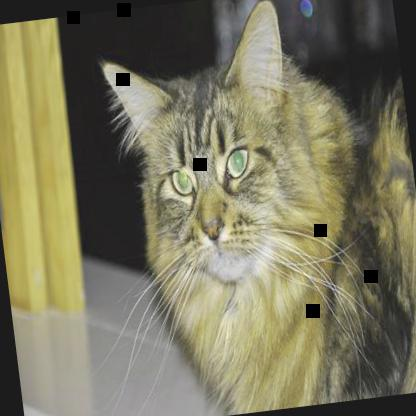cat: (95, 0, 415, 415)
